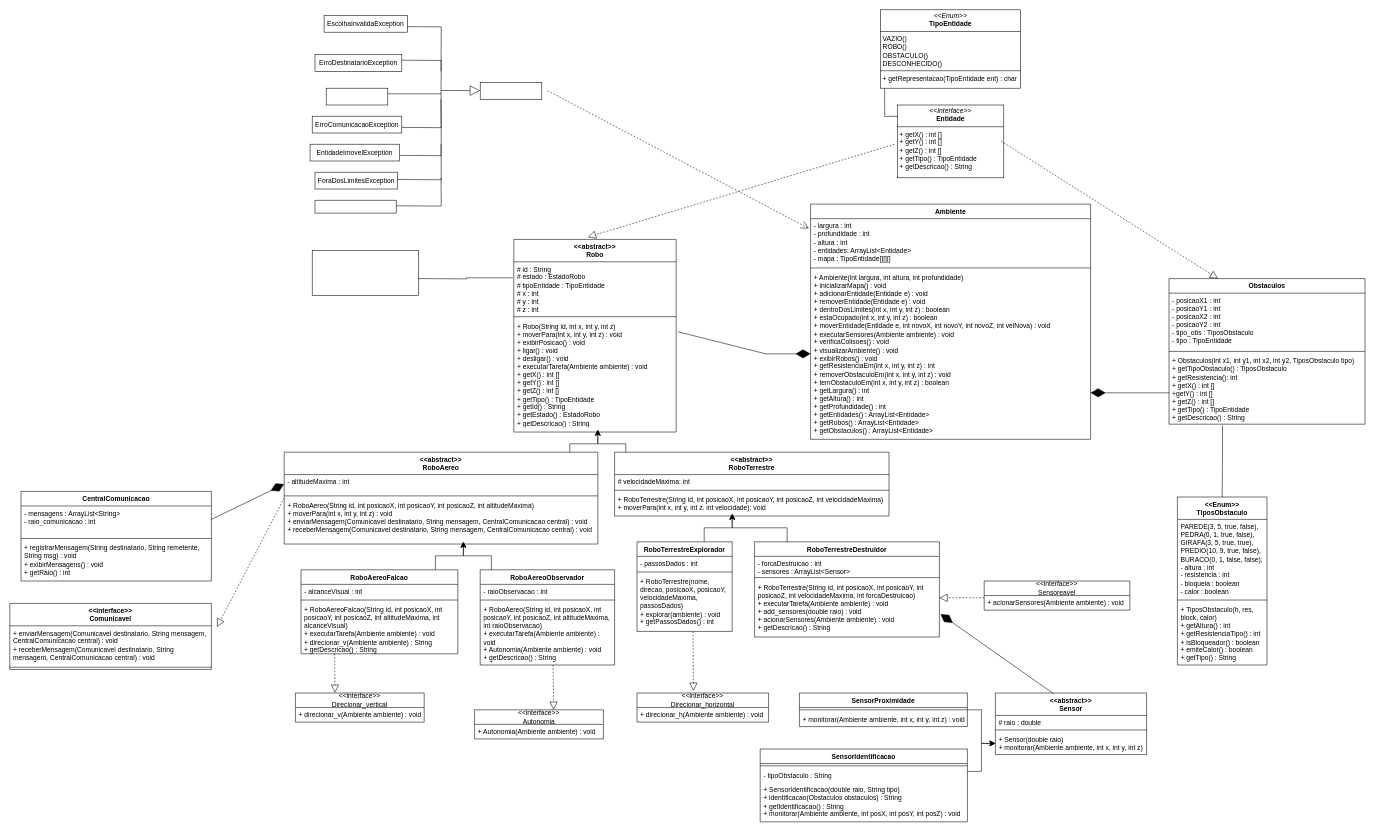
This 1375x833 diagram has some shape labels left out. The shapes that lost their labels are listed below. From the top down, each one's centre as x and y in pixels, then its label:
At point 357,96: "ColisaoException".
At point 511,90: "Exception".
At point 355,206: "RoboDesligadoException".
At point 365,272: "<<Enum>> EstadoRobo ligado(), desligado();".
